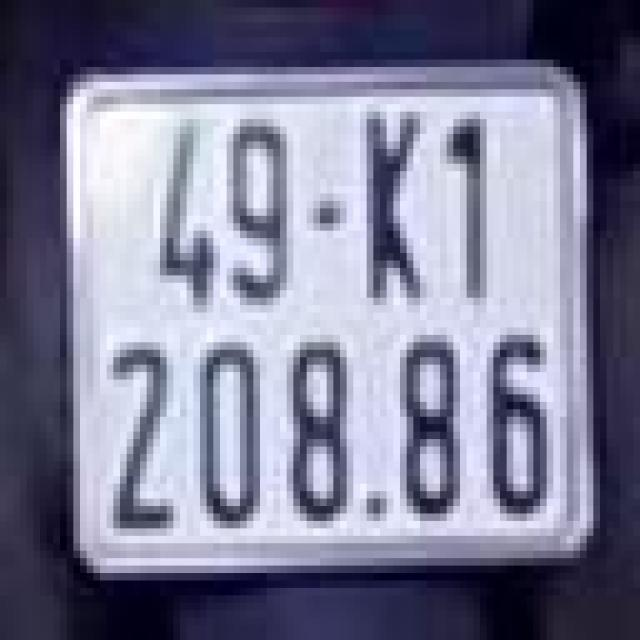0: (190, 320, 283, 536)
1: (440, 96, 513, 298)
2: (87, 316, 180, 547)
4: (144, 97, 224, 320)
6: (483, 327, 570, 536)
8: (393, 323, 467, 540), (294, 328, 374, 528)
9: (224, 111, 304, 312)
K: (346, 86, 446, 316)
